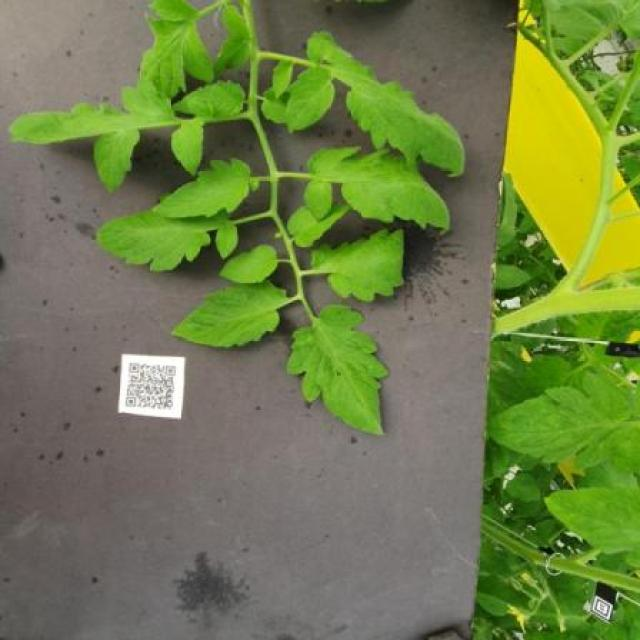Healthy: (284, 29, 467, 180), (5, 78, 172, 195), (286, 301, 397, 443), (304, 145, 454, 238), (93, 209, 238, 274), (168, 276, 291, 351), (311, 225, 406, 302), (152, 156, 258, 224), (170, 82, 247, 118), (216, 244, 281, 286), (171, 120, 205, 177)
